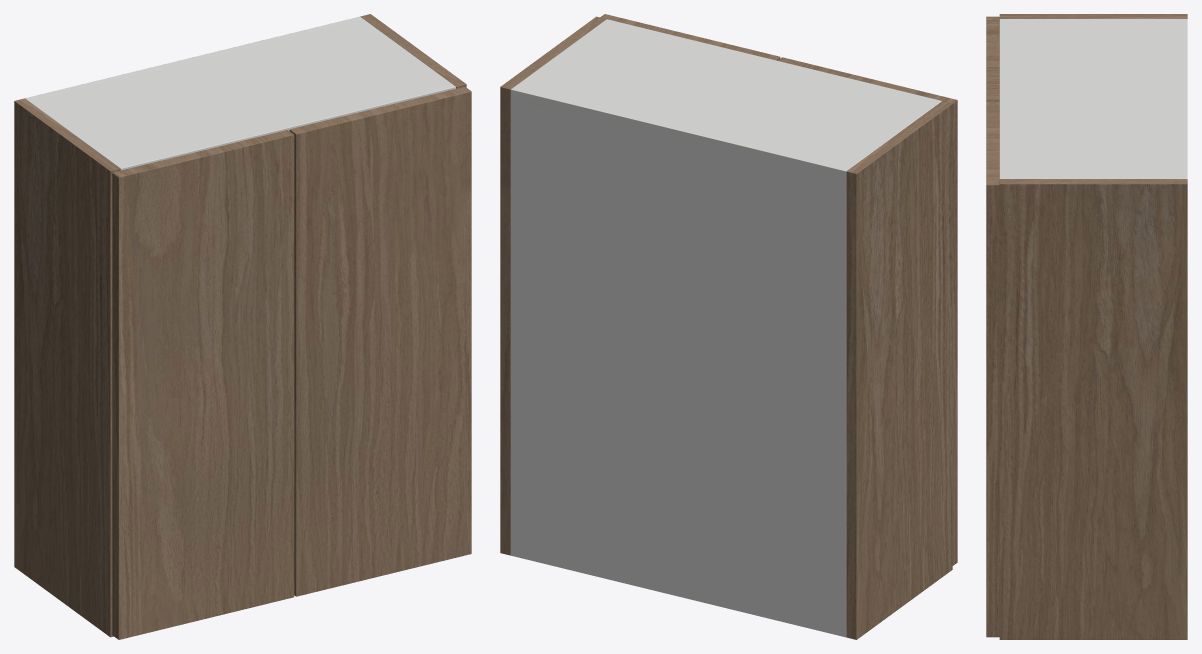
The model's file is oppein-pb-mnw-w2430.glb.
The picture shows the model from 3 angles, left to right: view 1: azimuth 30°, elevation 25°; view 2: azimuth 150°, elevation 25°; view 3: azimuth 270°, elevation 25°; orthographic projection. The views are drawn at different scales.
Parts seen in each view (by area): view 1: Door, Door.001, Cabinet side, Cabinet top, Cabinet back, Cabinet side.001; view 2: Cabinet back, Cabinet side, Cabinet top, Cabinet side.001, Door, Cabinet bottom, Door.001; view 3: Cabinet side.001, Cabinet top, Door.001, Cabinet back, Door, Cabinet side.
Boxes of the visible parts, x1=… form: Door: x1=112, y1=130, x2=294, y2=639; Door.001: x1=289, y1=86, x2=471, y2=596; Cabinet side: x1=14, y1=98, x2=120, y2=637; Cabinet top: x1=25, y1=19, x2=455, y2=170; Cabinet back: x1=25, y1=16, x2=363, y2=100; Cabinet side.001: x1=360, y1=14, x2=466, y2=88; Cabinet back: x1=511, y1=86, x2=849, y2=636; Cabinet side: x1=846, y1=101, x2=952, y2=639; Cabinet top: x1=511, y1=19, x2=941, y2=180; Cabinet side.001: x1=500, y1=16, x2=606, y2=555; Door: x1=777, y1=57, x2=957, y2=565; Cabinet bottom: x1=511, y1=545, x2=846, y2=637; Door.001: x1=600, y1=14, x2=780, y2=60; Cabinet side.001: x1=999, y1=179, x2=1187, y2=639; Cabinet top: x1=999, y1=19, x2=1187, y2=178; Door.001: x1=986, y1=101, x2=999, y2=637; Cabinet back: x1=1180, y1=19, x2=1187, y2=178; Door: x1=986, y1=16, x2=999, y2=101; Cabinet side: x1=999, y1=14, x2=1187, y2=18.
Bounding box in the file's own units: 0.6096 × 0.762 × 0.3048.
Materials: 2 (1 with a texture image).
